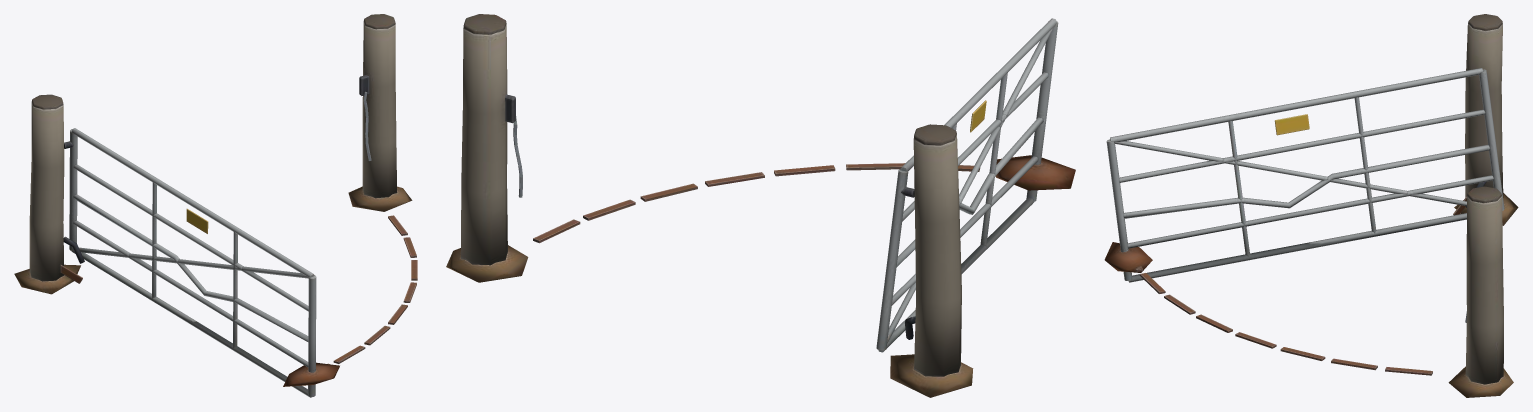
File: gate_broken.glb
3 renders of one model, left to right at view 1: azimuth 30°, elevation 25°; view 2: azimuth 150°, elevation 25°; view 3: azimuth 270°, elevation 25°, orthographic. The views are drawn at different scales.
Parts seen in each view (by area): view 1: gate_broken; view 2: gate_broken; view 3: gate_broken.
Boxes of the visible parts, <box> form: gate_broken: <box>14,14,417,397</box>; gate_broken: <box>446,14,1075,397</box>; gate_broken: <box>1104,14,1518,397</box>.
Bounding box in the file's own units: 3.45 × 1.71 × 3.03.
1 material, 1 textured.
